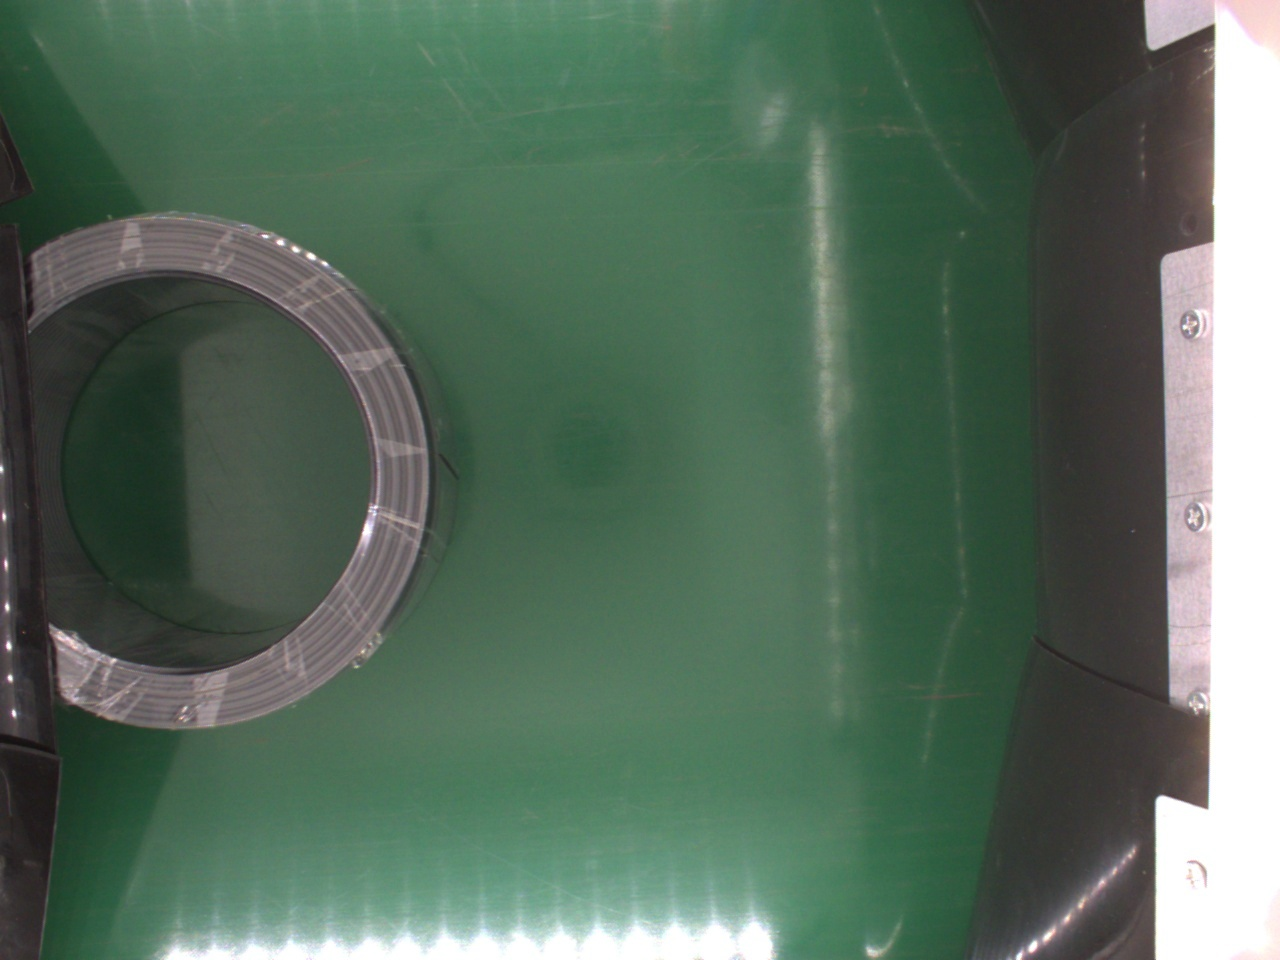black: (28, 212, 445, 731)
